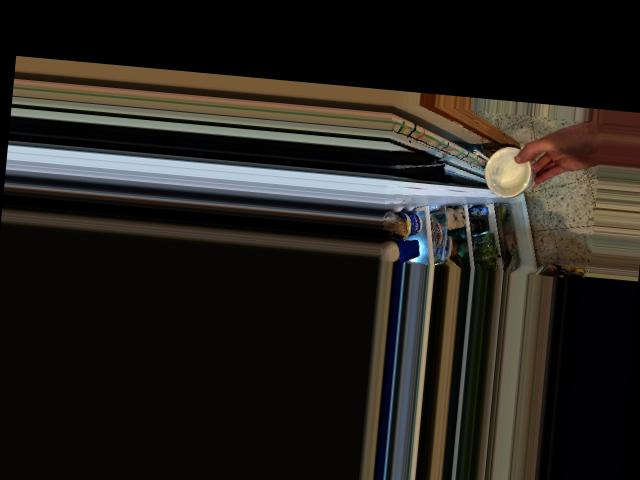cotage: (475, 147, 532, 201)
